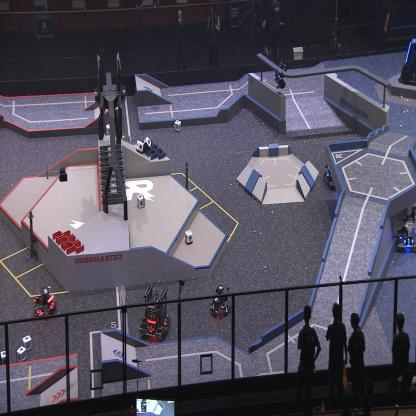car: (138, 283, 171, 347), (395, 204, 415, 256), (209, 282, 232, 321), (33, 284, 57, 319), (323, 148, 343, 190)
